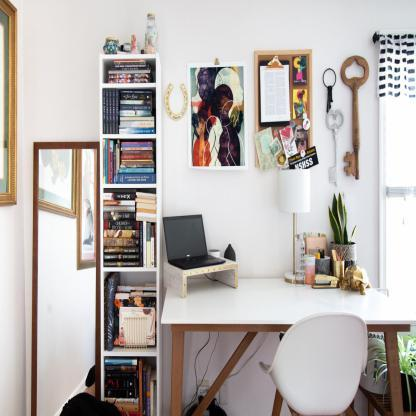chair: (257, 307, 373, 416)
light: (277, 167, 319, 289)
table: (154, 268, 416, 416)
